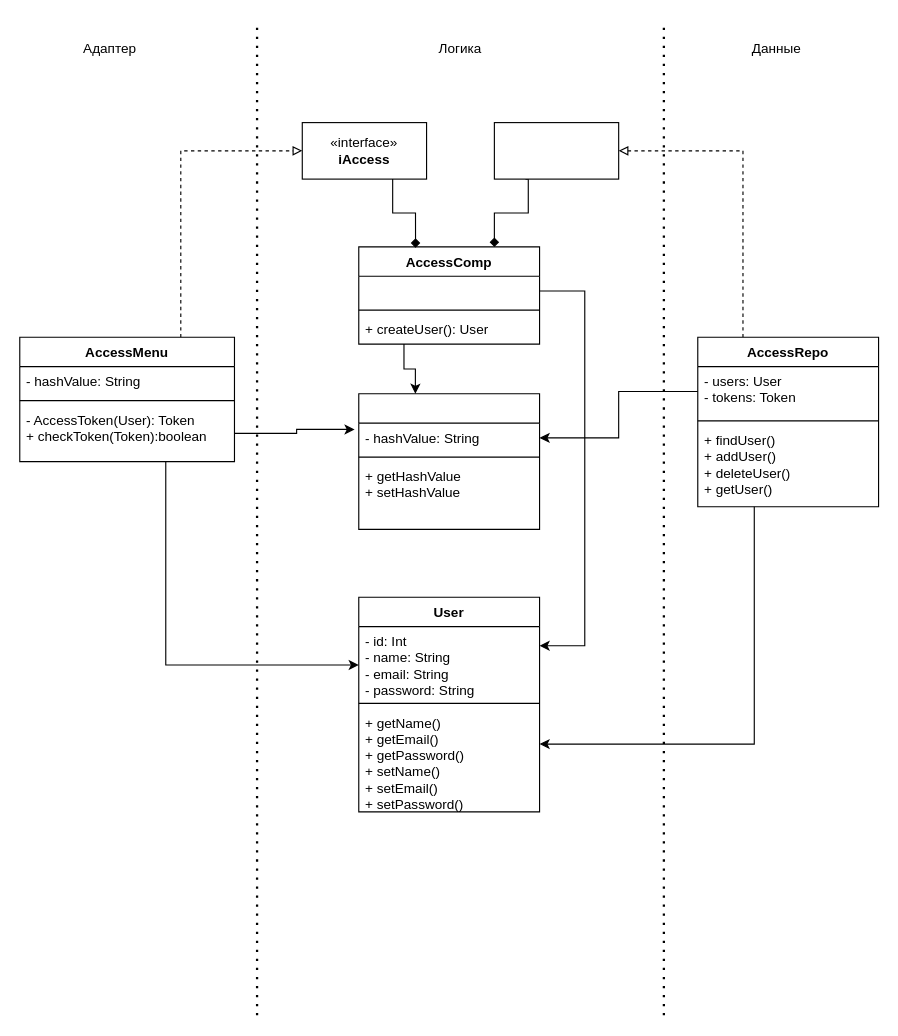
This 898x1036 diagram has some shape labels left out. The shapes that lost their labels are listed below. From the top down, each one's box as (x1, y1, x2, y2) in pixels, then its label:
(493, 121, 619, 179): «interface» iRepo
(358, 393, 540, 529): Token
